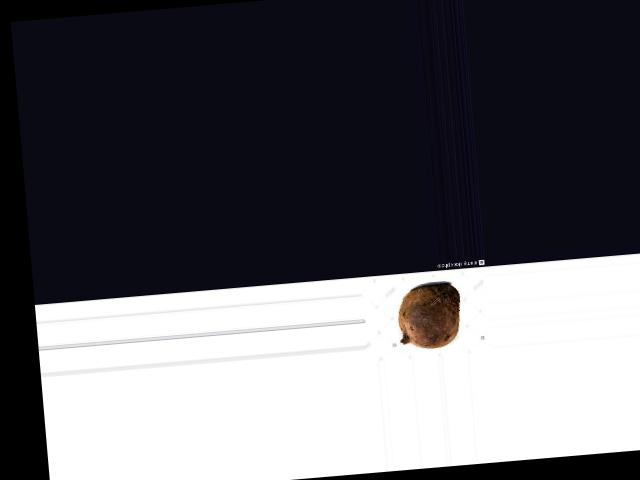beet: (395, 281, 463, 350)
